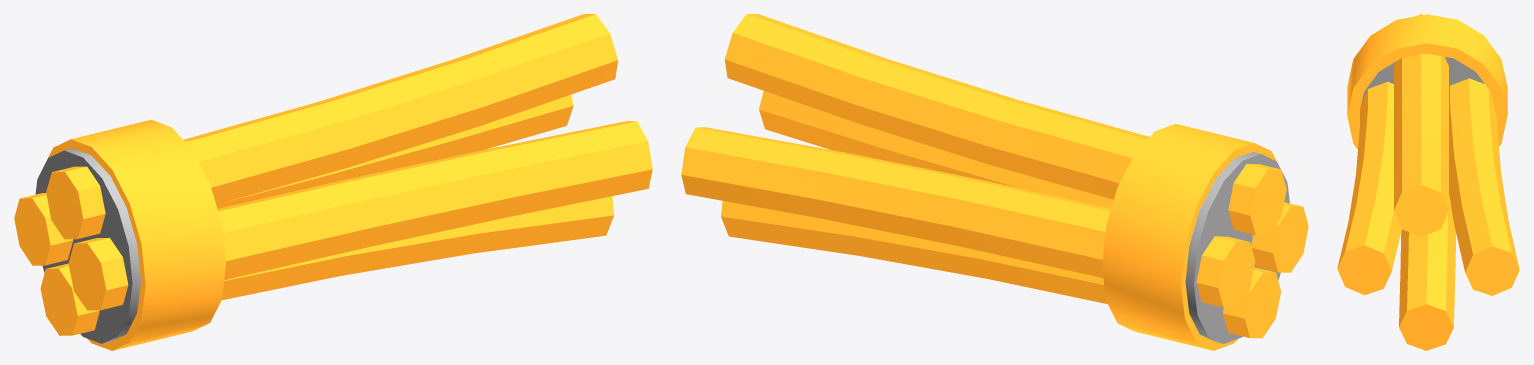
File: cabel11.fbx
3 views of the same model, side by side, from view 1: azimuth 30°, elevation 25°; view 2: azimuth 150°, elevation 25°; view 3: azimuth 270°, elevation 25° (orthographic). The views are drawn at different scales.
Visible parts, largest first — view 1: 6; view 2: 6; view 3: 6.
Boxes of the visible parts, x1,y1,x2,y2 form: 6: (14,14,652,350); 6: (681,14,1308,350); 6: (1337,14,1519,350).
Size of the model in its own units: 20.11 by 8 by 7.97.
